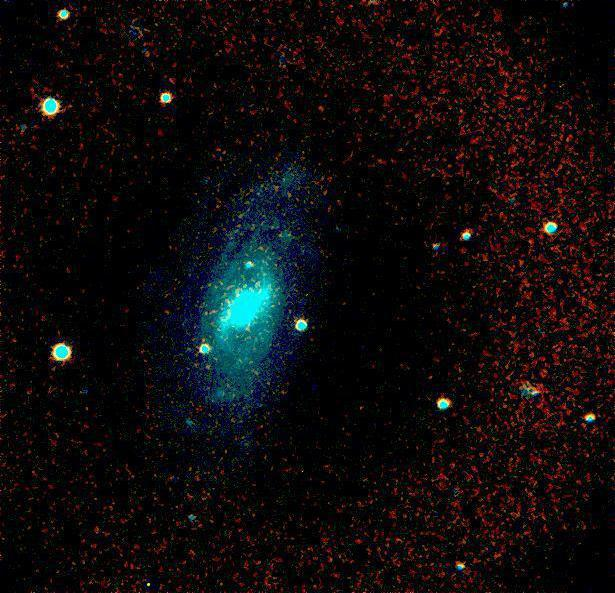star: (248, 177, 278, 207)
